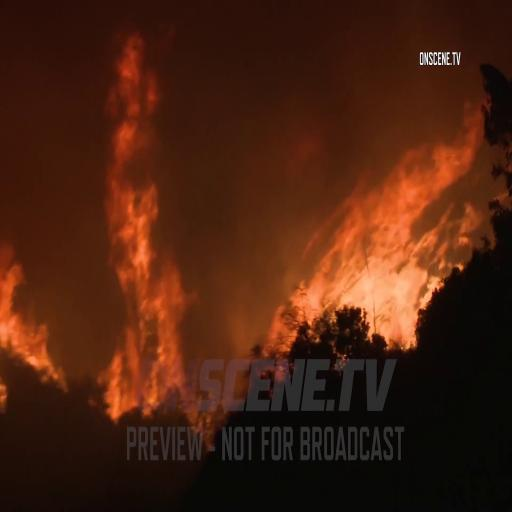fire: (99, 0, 194, 406), (276, 106, 415, 338)
smoke: (0, 0, 59, 159)
